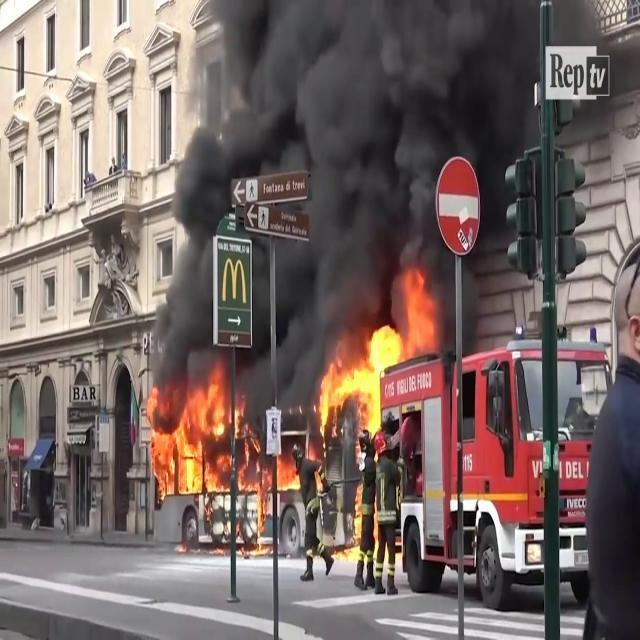Fire: (146, 368, 274, 542), (320, 320, 398, 436)
Smoke: (151, 0, 535, 356)
